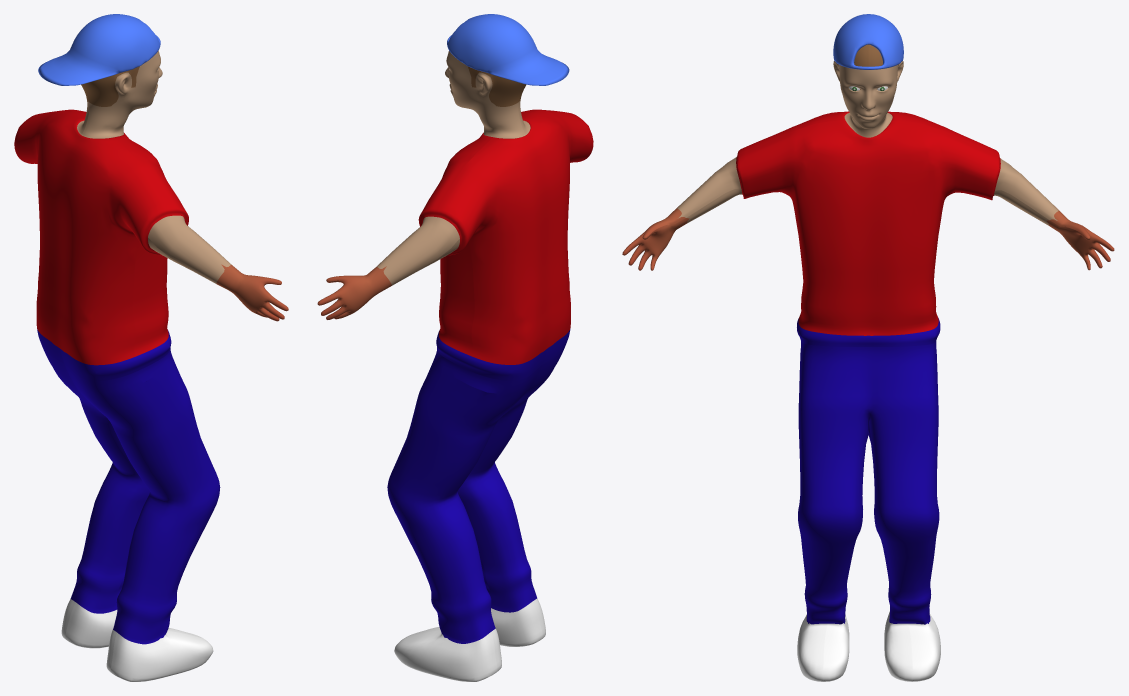
File: PersonajePoseGrindear.fbx
3 views of the same model, side by side, from view 1: azimuth 30°, elevation 25°; view 2: azimuth 150°, elevation 25°; view 3: azimuth 270°, elevation 25° (orthographic).
Visible parts, largest first — view 1: Cuerpo completo smooth.002; view 2: Cuerpo completo smooth.002; view 3: Cuerpo completo smooth.002.
Boxes of the visible parts, x1,y1,x2,y2 form: Cuerpo completo smooth.002: [14, 14, 288, 681]; Cuerpo completo smooth.002: [317, 14, 593, 681]; Cuerpo completo smooth.002: [622, 14, 1114, 681].
Bounding box in the file's own units: 40.73 × 165 × 116.
